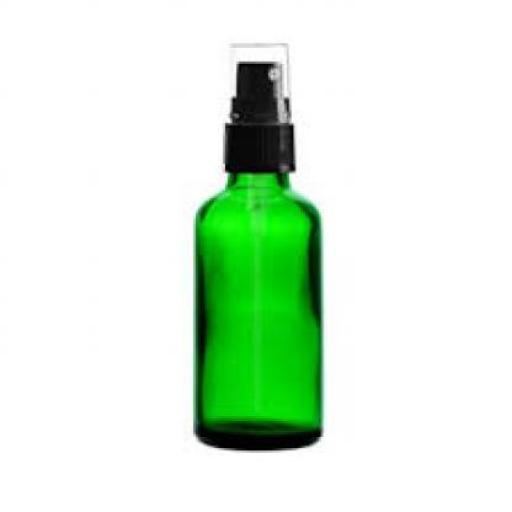glass: (196, 168, 318, 451)
plastic: (221, 40, 293, 168)
